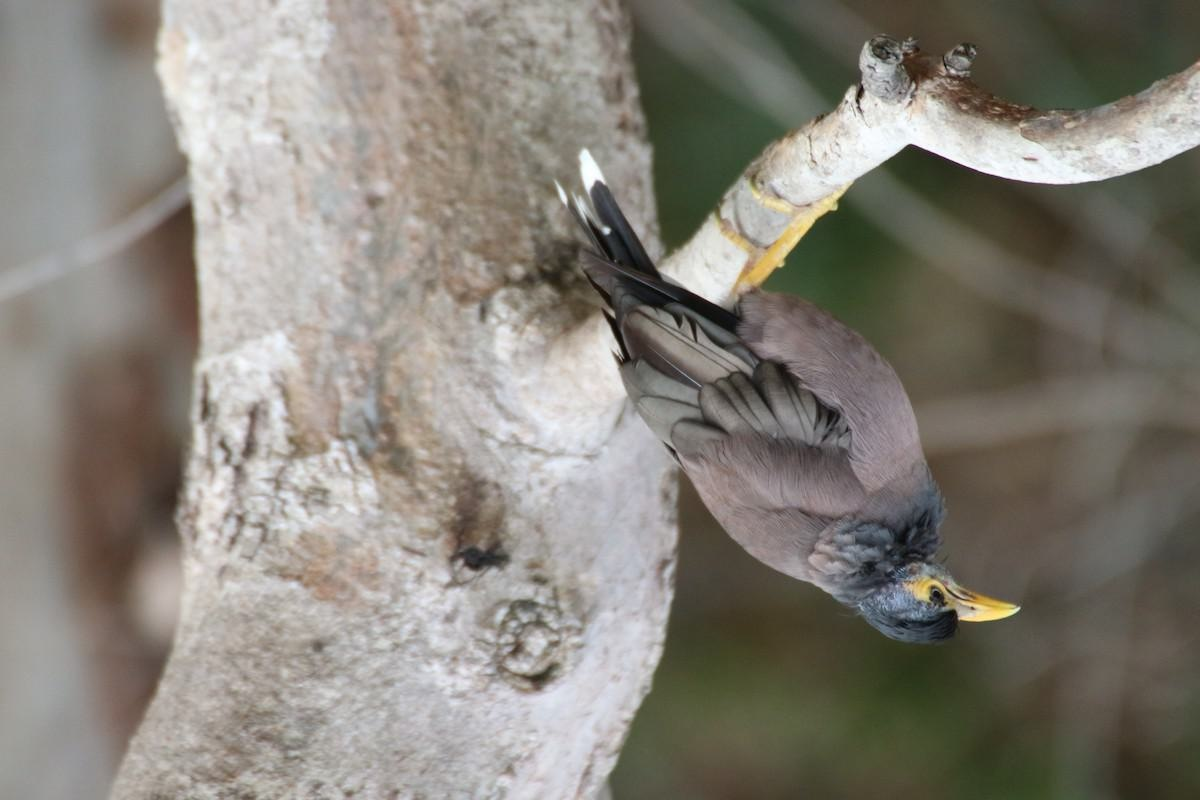myna: (603, 194, 1039, 656)
